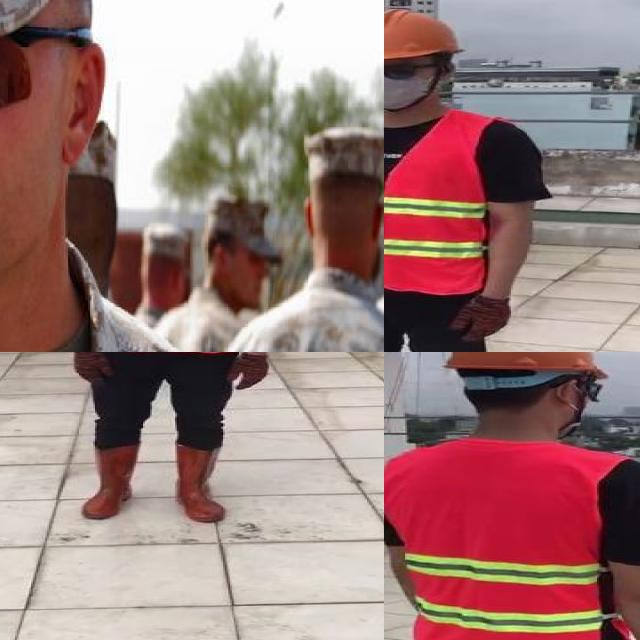No_Ear-Protection: (56, 40, 108, 166)
boots: (172, 443, 230, 524), (81, 444, 141, 520)
face_mask: (384, 56, 433, 110)
face_nomask: (0, 20, 48, 237)
glasses: (0, 0, 81, 139), (384, 57, 423, 83)
hand_glove: (450, 298, 512, 340), (70, 352, 118, 388), (226, 356, 268, 392)
head_helmet: (384, 5, 466, 64), (442, 352, 604, 373)
head_nohelmet: (294, 108, 384, 191), (210, 187, 278, 248)
person: (0, 0, 267, 352), (384, 352, 640, 640), (384, 4, 551, 352), (49, 352, 286, 528), (231, 125, 384, 352), (171, 188, 271, 352)
vest: (384, 441, 627, 640), (384, 114, 488, 296)
